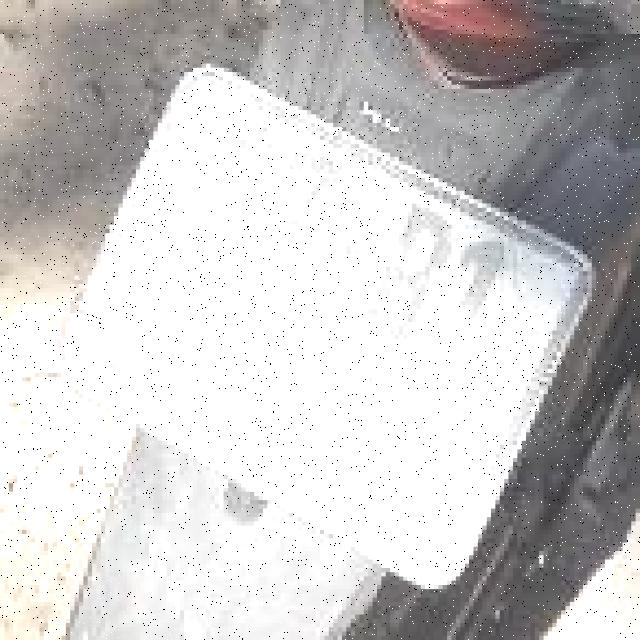0: (305, 358, 420, 522), (76, 239, 192, 391)
1: (411, 232, 530, 396)
2: (145, 278, 268, 439)
6: (178, 110, 293, 269)
7: (371, 394, 501, 561), (239, 138, 356, 298)
9: (215, 314, 332, 473)
B: (345, 193, 472, 363)
